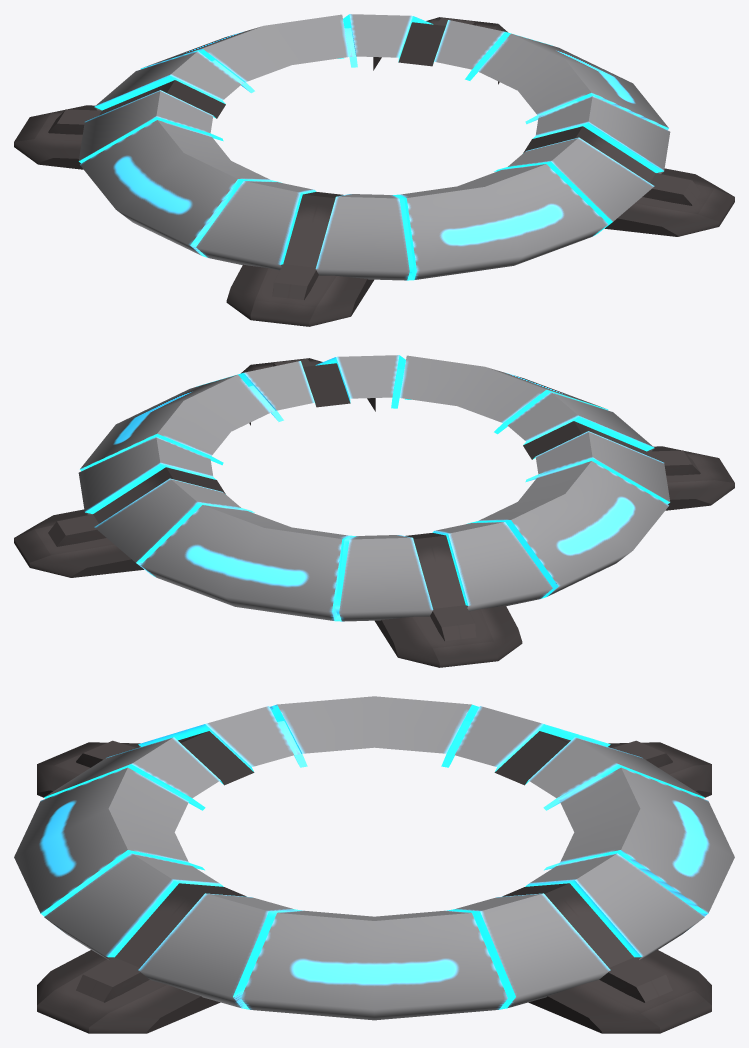
Rendered from ButtonBase_Ground.glb.
3 views of the same model, one above another, from view 1: azimuth 30°, elevation 25°; view 2: azimuth 150°, elevation 25°; view 3: azimuth 270°, elevation 25° (orthographic). The views are drawn at different scales.
Visible parts, largest first — view 1: Cube.007; view 2: Cube.007; view 3: Cube.007.
Part boxes in pixels (x1,y1,x2,y2): Cube.007: [14, 14, 734, 326]; Cube.007: [14, 355, 734, 667]; Cube.007: [14, 696, 734, 1033].
Bounding box in the file's own units: 1.16 × 0.1528 × 1.16.
Materials: 1 (1 with a texture image).
